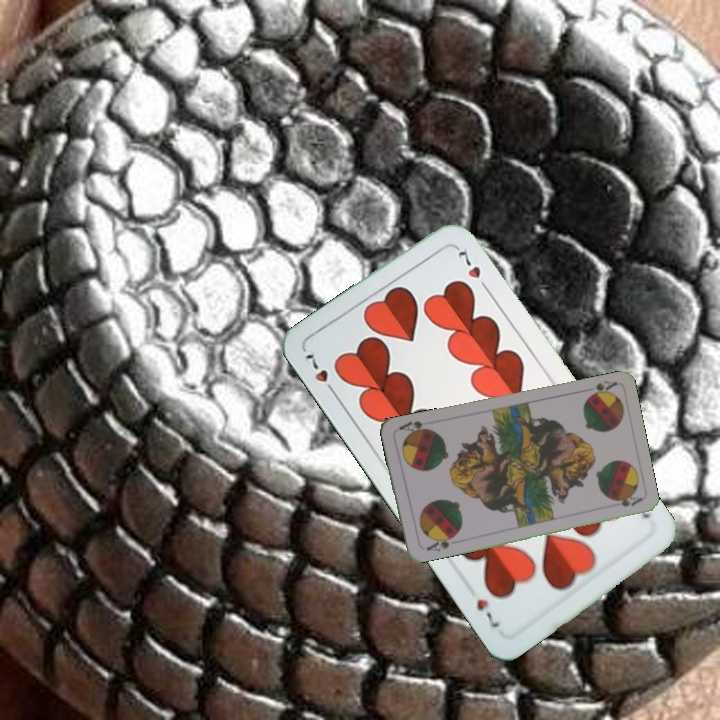H7: (299, 346, 340, 399)
SA: (583, 376, 619, 401), (422, 531, 459, 554)
